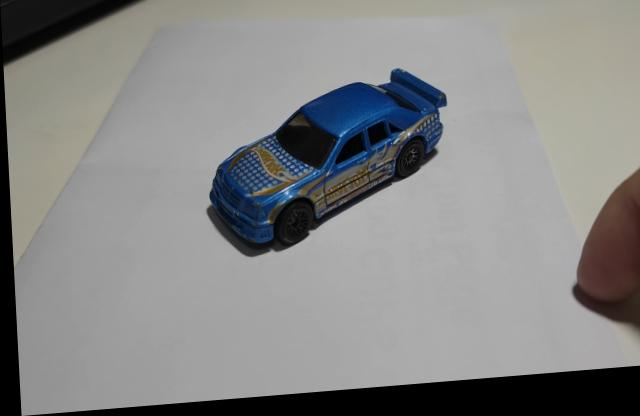04_MERZEDES: (203, 77, 447, 262)
